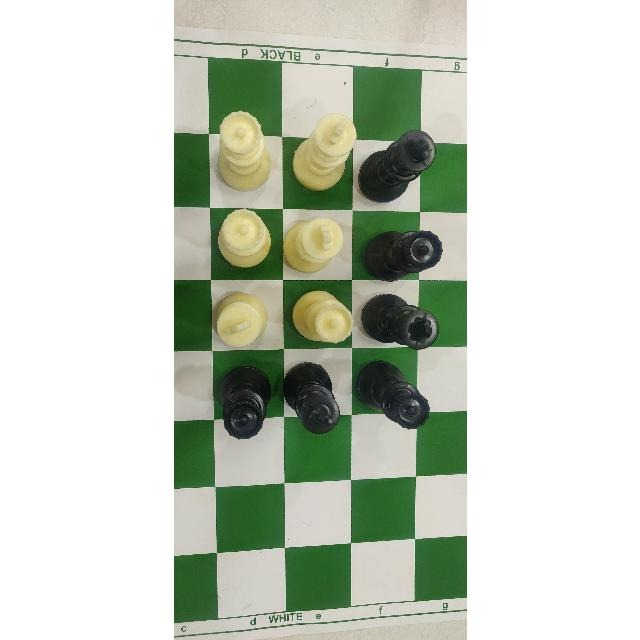black-king: (356, 118, 433, 208), (358, 290, 441, 356), (278, 365, 342, 436)
black-queen: (354, 362, 431, 432), (362, 227, 442, 276), (218, 365, 268, 442)
white-king: (291, 110, 352, 186), (281, 212, 347, 276), (210, 294, 265, 348)
white-queen: (206, 106, 275, 194), (290, 288, 350, 350), (209, 206, 269, 267)
